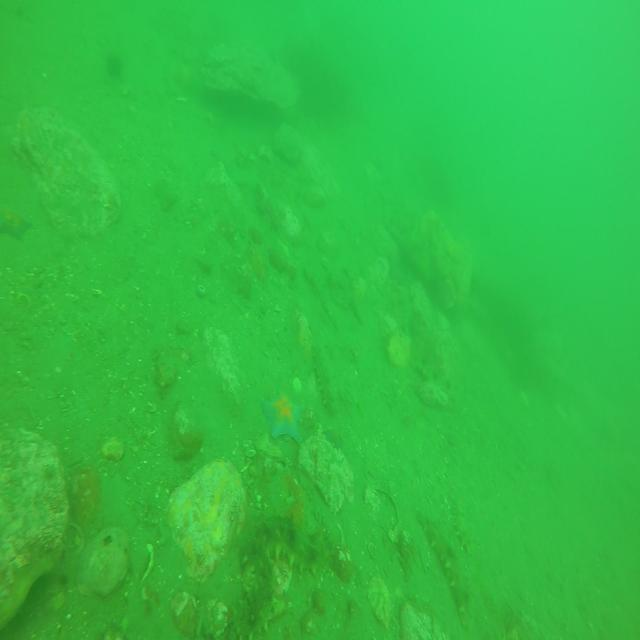echinus: (104, 51, 124, 81)
holothurian: (416, 509, 470, 623), (219, 563, 282, 640), (252, 519, 319, 574), (308, 336, 338, 417)
scallop: (13, 101, 122, 239), (162, 458, 242, 570), (198, 34, 301, 102), (297, 428, 355, 508), (71, 523, 129, 596)
starfish: (261, 386, 308, 445)
